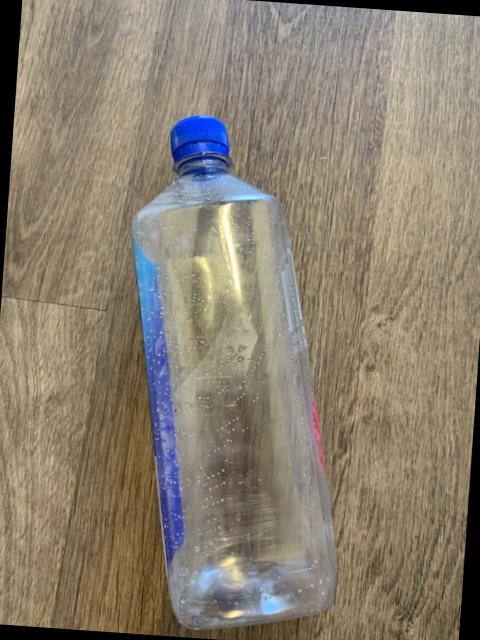plastic: (134, 115, 337, 628)
